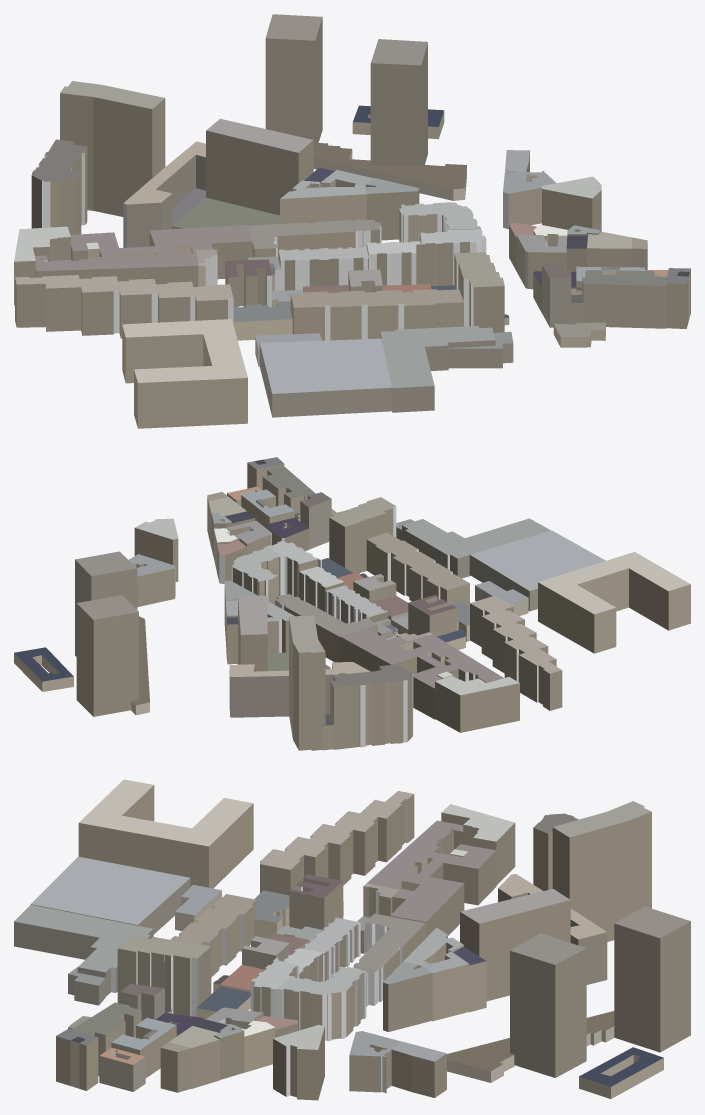
The picture shows the model from 3 angles, top to bottom: view 1: azimuth 30°, elevation 25°; view 2: azimuth 150°, elevation 25°; view 3: azimuth 270°, elevation 25°; orthographic projection. The views are drawn at different scales.
Visible parts, largest first — view 1: tuile; view 2: tuile; view 3: tuile.
Part boxes in pixels (left/top/right/bottom): tuile: left=14, top=14, right=690, bottom=428; tuile: left=14, top=457, right=690, bottom=750; tuile: left=14, top=779, right=690, bottom=1100.
Size of the model in its own units: 274 by 55.24 by 288.
